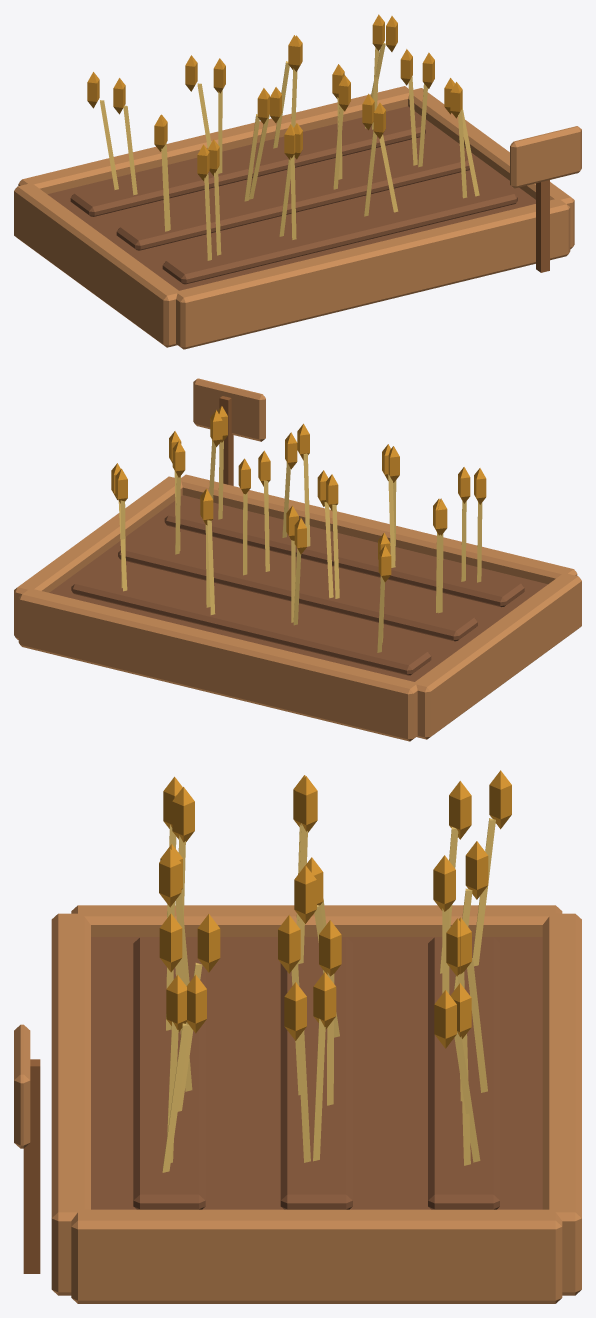
The model's file is station_wheat_field.glb.
3 renders of one model, top to bottom at view 1: azimuth 30°, elevation 25°; view 2: azimuth 150°, elevation 25°; view 3: azimuth 270°, elevation 25°, orthographic. The views are drawn at different scales.
Visible parts, largest first — view 1: station_wheat_field, station_wheat_field_plants; view 2: station_wheat_field, station_wheat_field_plants; view 3: station_wheat_field, station_wheat_field_plants.
Part boxes in pixels (<box>): station_wheat_field: <box>14,86,581,349</box>; station_wheat_field_plants: <box>87,14,479,260</box>; station_wheat_field: <box>14,378,581,741</box>; station_wheat_field_plants: <box>111,406,486,652</box>; station_wheat_field: <box>14,905,581,1303</box>; station_wheat_field_plants: <box>159,770,511,1172</box>.
Bounding box in the file's own units: 2.32 × 0.89 × 1.73.
